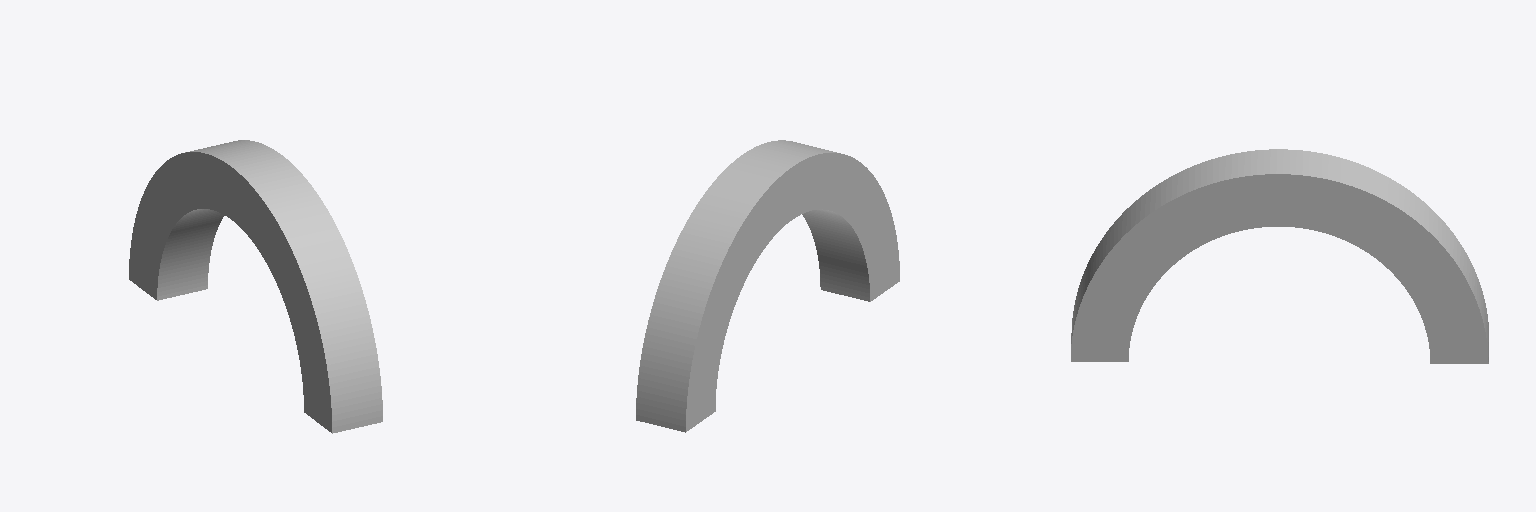
File: rainbow.obj
The picture shows the model from 3 angles: view 1: azimuth 30°, elevation 25°; view 2: azimuth 150°, elevation 25°; view 3: azimuth 270°, elevation 25°; orthographic projection.
Visible parts, largest first — view 1: Cube; view 2: Cube; view 3: Cube.
Part boxes in pixels (x1,y1,x2,y2): Cube: (129, 140, 382, 433); Cube: (636, 140, 899, 432); Cube: (1071, 149, 1488, 363).
Size of the model in its own units: 2.22 by 7.2 by 14.41.